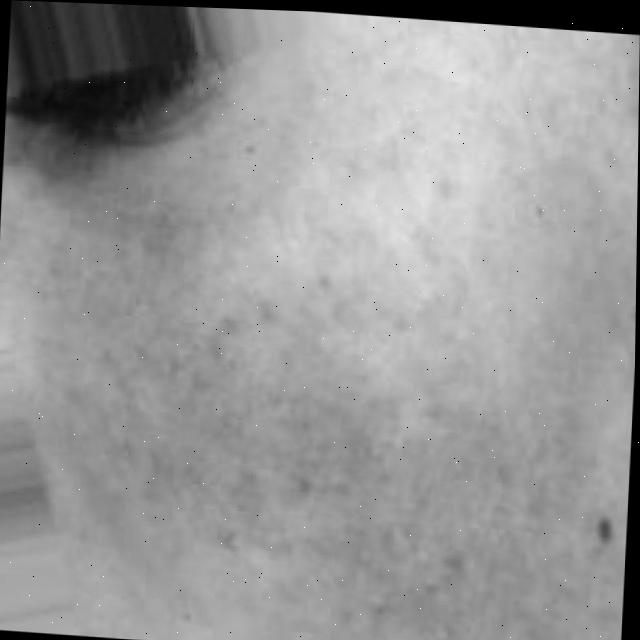Eczema: (73, 196, 526, 612)
